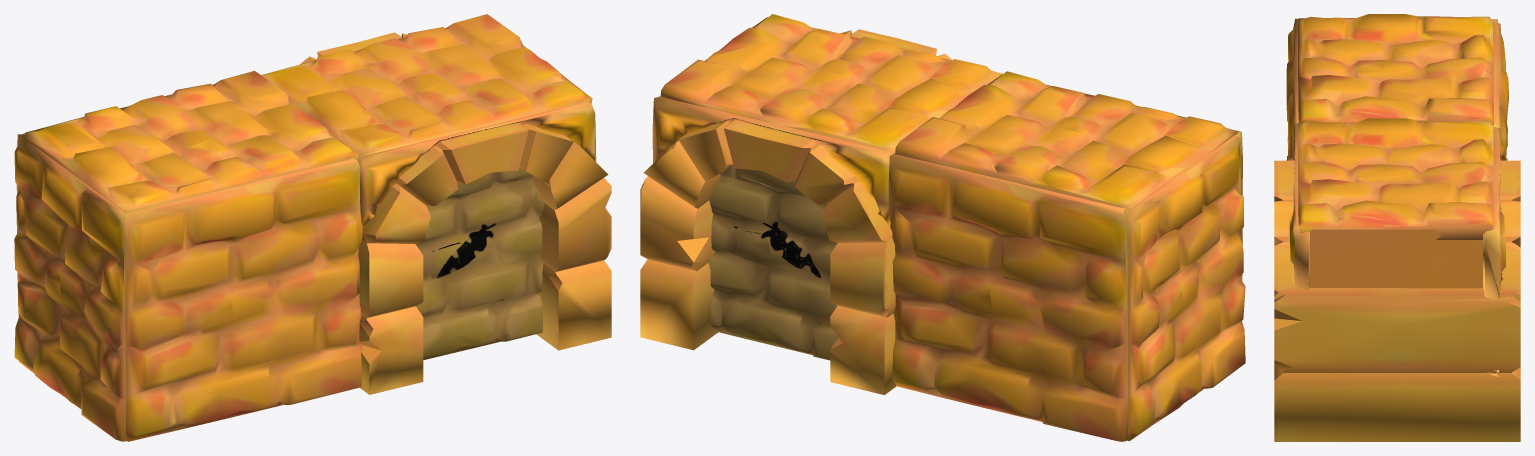
Rendered from wall_and_door.fbx.
The picture shows the model from 3 angles, left to right: view 1: azimuth 30°, elevation 25°; view 2: azimuth 150°, elevation 25°; view 3: azimuth 270°, elevation 25°; orthographic projection. The views are drawn at different scales.
Visible parts, largest first — view 1: wall_low2, door, wall_low2.003; view 2: wall_low2, door, wall_low2.003; view 3: door, wall_low2.
Boxes of the visible parts, x1,y1,x2,y2 form: wall_low2: (14, 70, 362, 441); door: (261, 14, 611, 394); wall_low2.003: (415, 167, 544, 359); wall_low2: (888, 71, 1245, 441); door: (640, 14, 1003, 394); wall_low2.003: (708, 165, 838, 360); door: (1274, 118, 1520, 441); wall_low2: (1286, 14, 1508, 160).
Bounding box in the file's own units: 528 × 253 × 253.
5 materials, 5 textured.
